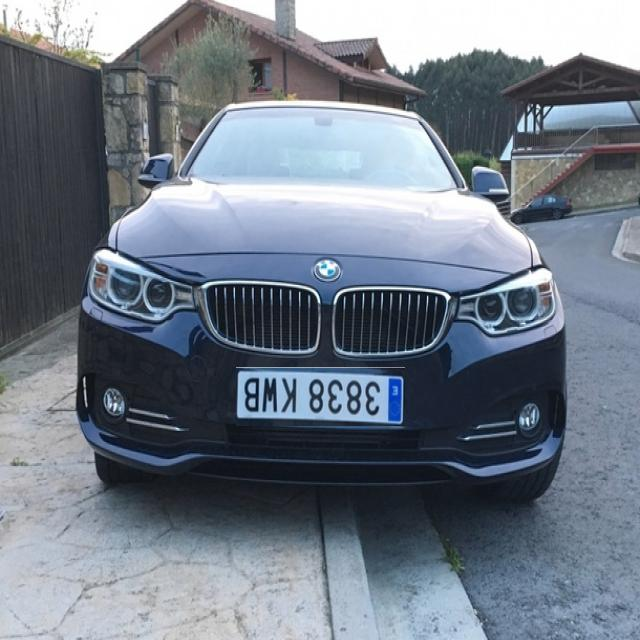License-Plate: (235, 367, 405, 426)
